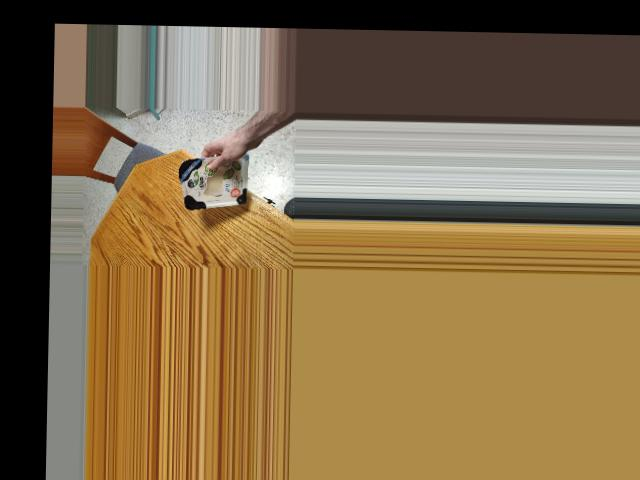cheese: (175, 153, 258, 204)
